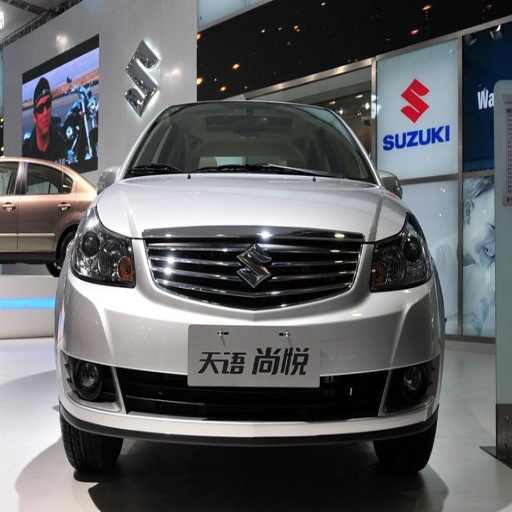front_bumper: (66, 229, 436, 443)
front_glass: (125, 106, 375, 182)
front_right_light: (72, 205, 135, 287)
hood: (100, 176, 405, 242), (154, 243, 292, 296)
